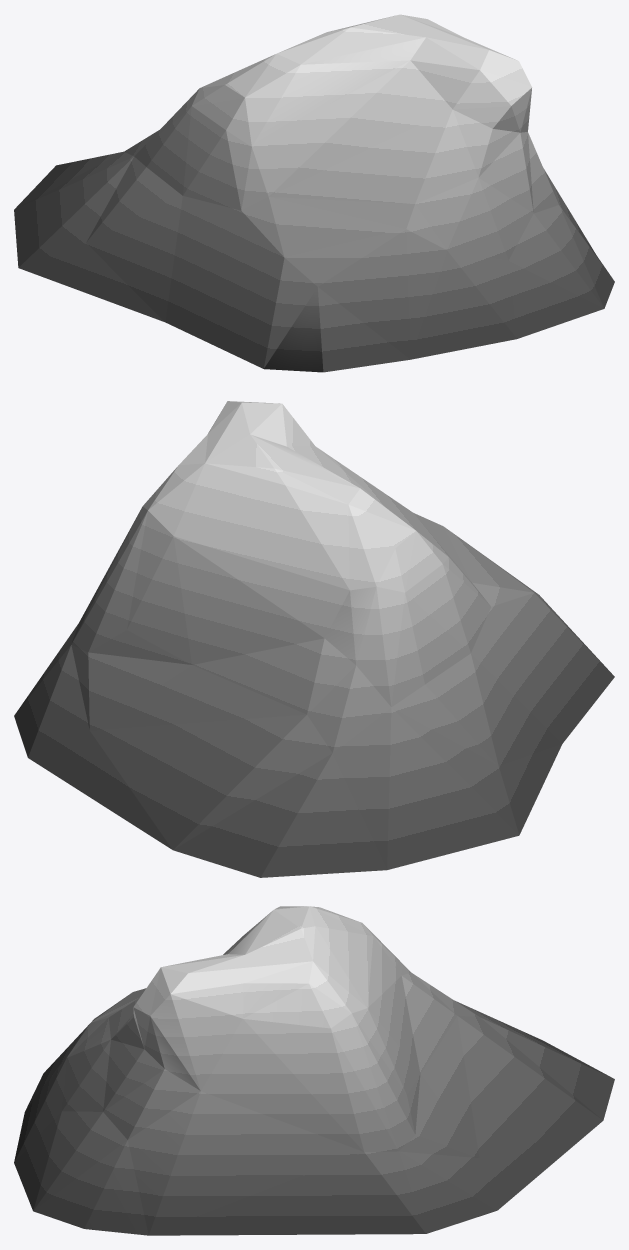
Rendered from Prefab_Rock_Chunk_B.glb.
3 views of the same model, one above another, from view 1: azimuth 30°, elevation 25°; view 2: azimuth 150°, elevation 25°; view 3: azimuth 270°, elevation 25° (orthographic). The views are drawn at different scales.
Parts seen in each view (by area): view 1: Rock_Chunk_A; view 2: Rock_Chunk_A; view 3: Rock_Chunk_A.
Boxes of the visible parts, x1,y1,x2,y2 form: Rock_Chunk_A: (14, 14, 614, 372); Rock_Chunk_A: (14, 401, 614, 877); Rock_Chunk_A: (14, 906, 614, 1235).
Bounding box in the file's own units: 4.34 × 2.01 × 4.94.
1 material, 1 textured.
